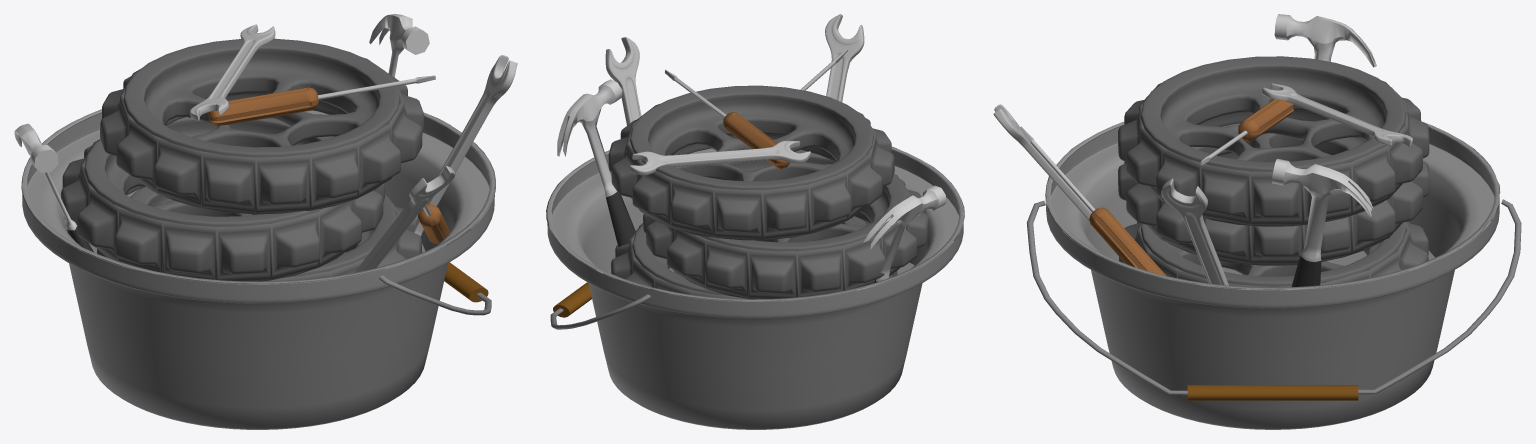
File: Gear Box.fbx
3 views of the same model, side by side, from view 1: azimuth 30°, elevation 25°; view 2: azimuth 150°, elevation 25°; view 3: azimuth 270°, elevation 25° (orthographic). The views are drawn at different scales.
Visible parts, largest first — view 1: GearBox; view 2: GearBox; view 3: GearBox.
Boxes of the visible parts, x1,y1,x2,y2 form: GearBox: (14, 14, 517, 429); GearBox: (546, 14, 964, 429); GearBox: (993, 14, 1521, 429).
Bounding box in the file's own units: 53.84 × 34.78 × 59.67.
